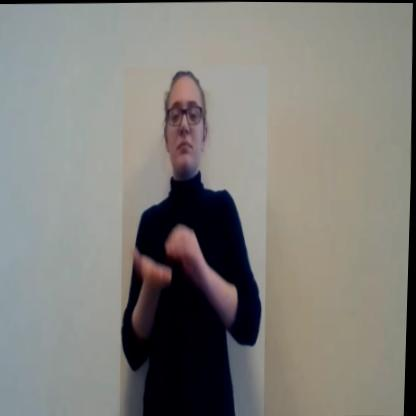ExcuseMe: (115, 64, 274, 416)
